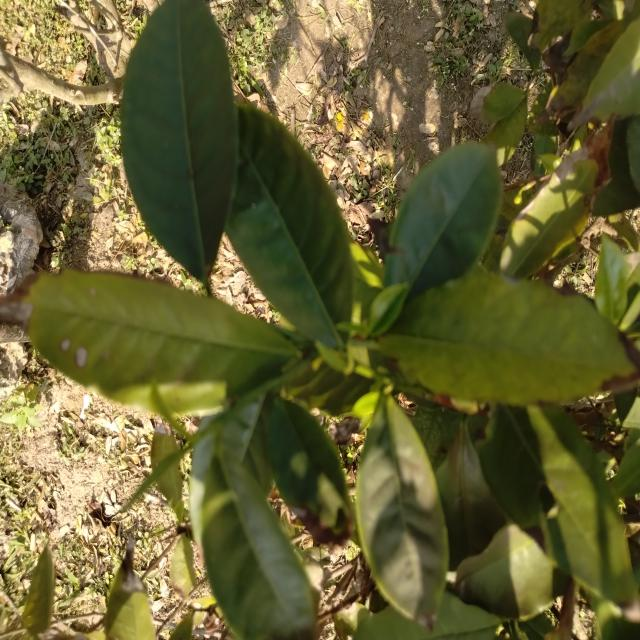Leaf: (0, 270, 299, 415), (377, 266, 637, 405), (120, 0, 238, 283), (478, 405, 640, 605), (226, 106, 355, 348), (200, 443, 316, 640), (356, 396, 448, 628), (385, 142, 502, 299), (189, 395, 273, 545), (500, 151, 598, 277), (268, 398, 351, 544), (454, 523, 553, 618), (570, 18, 640, 128), (354, 592, 500, 640), (104, 539, 155, 640), (482, 94, 527, 165), (23, 545, 55, 637), (595, 234, 627, 324), (470, 83, 526, 123), (368, 283, 408, 336), (504, 12, 540, 70), (156, 458, 184, 521), (611, 439, 640, 498), (170, 533, 196, 598), (151, 421, 181, 472)
